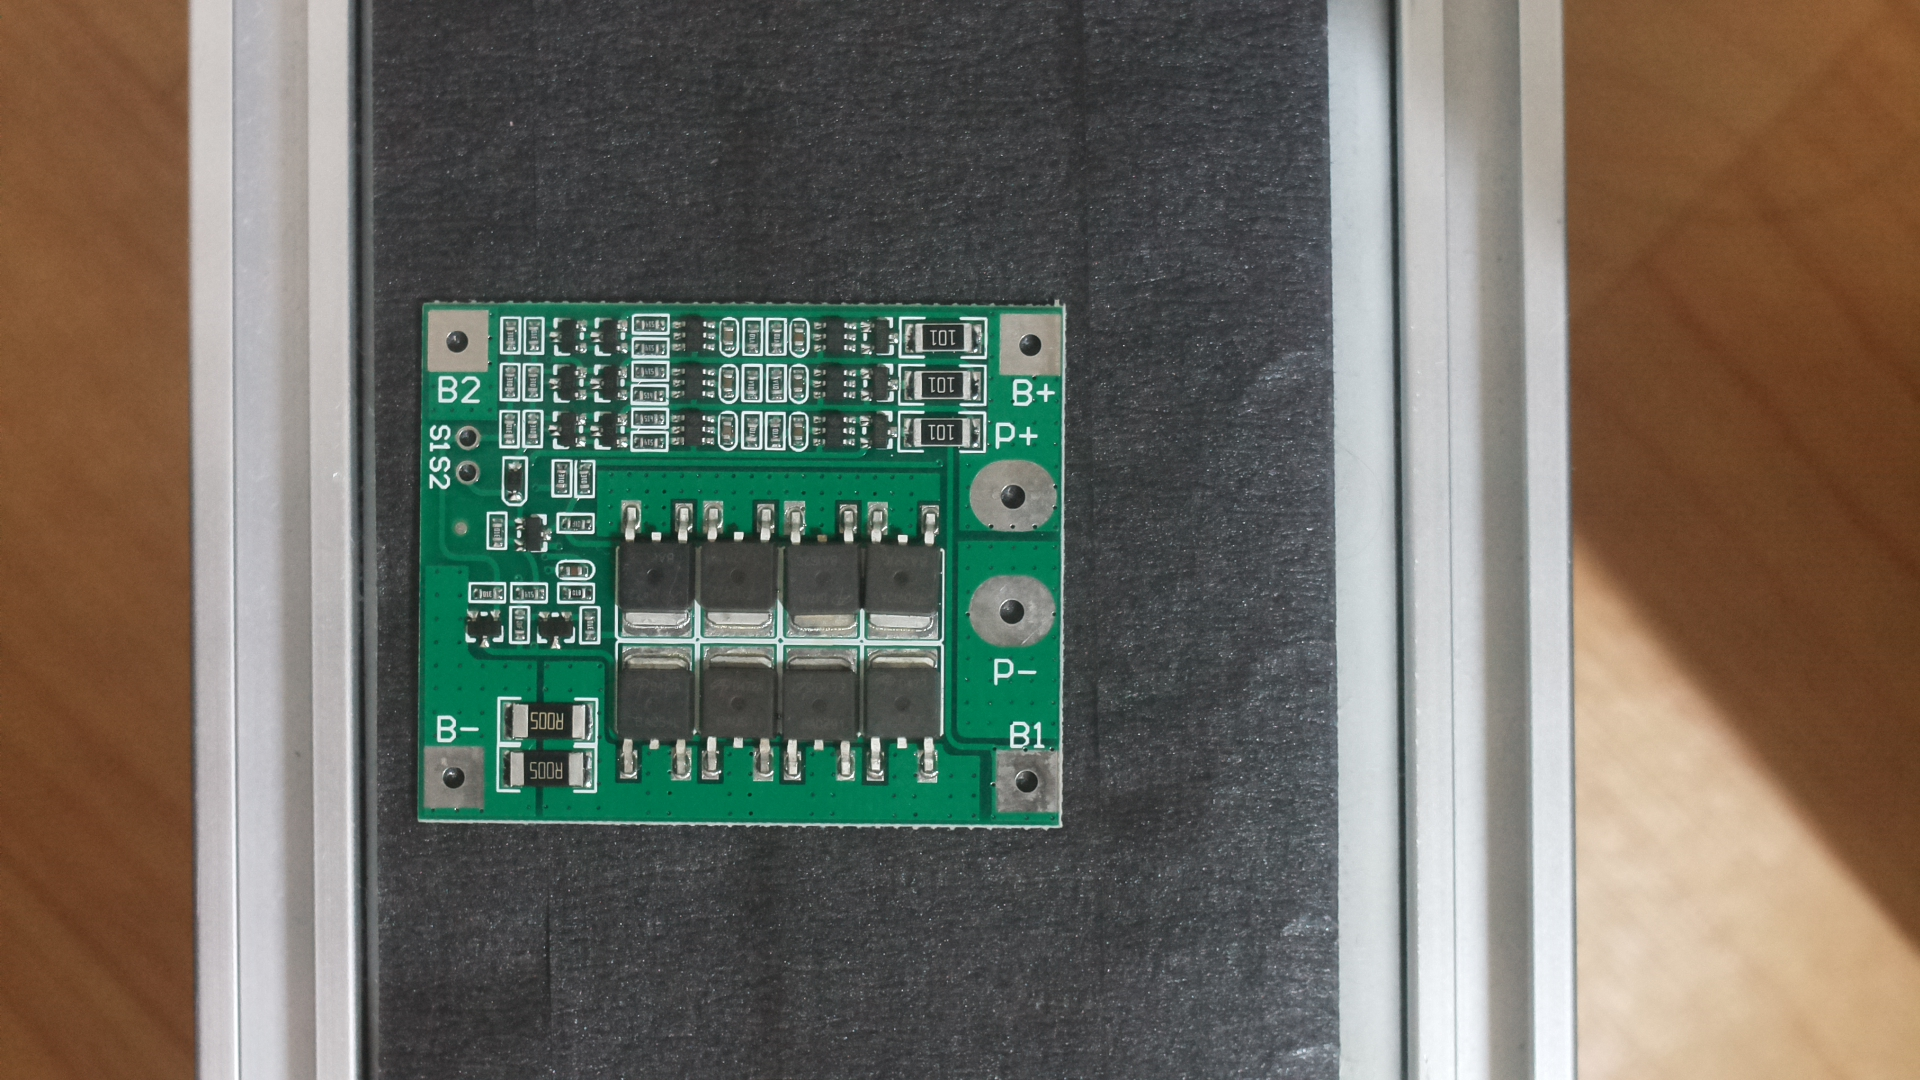C_Normal: (406, 280, 1088, 853)
